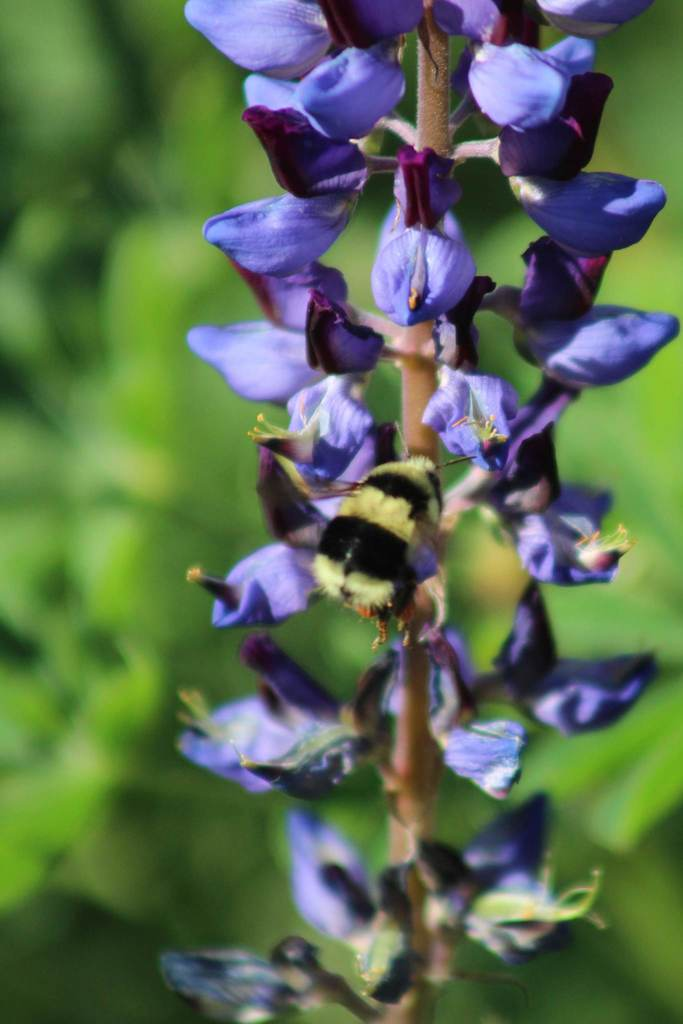bumblebee: (257, 421, 477, 649)
